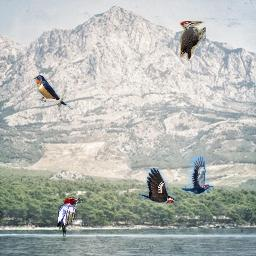Swallow: (34, 75, 74, 110)
Woodpecker: (139, 168, 177, 203), (181, 156, 213, 194), (57, 197, 84, 237), (180, 21, 206, 61)
